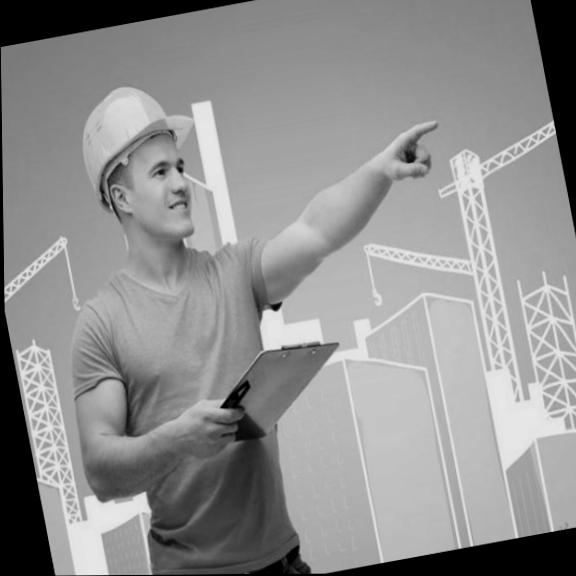no_safety_vest: (55, 229, 336, 576)
